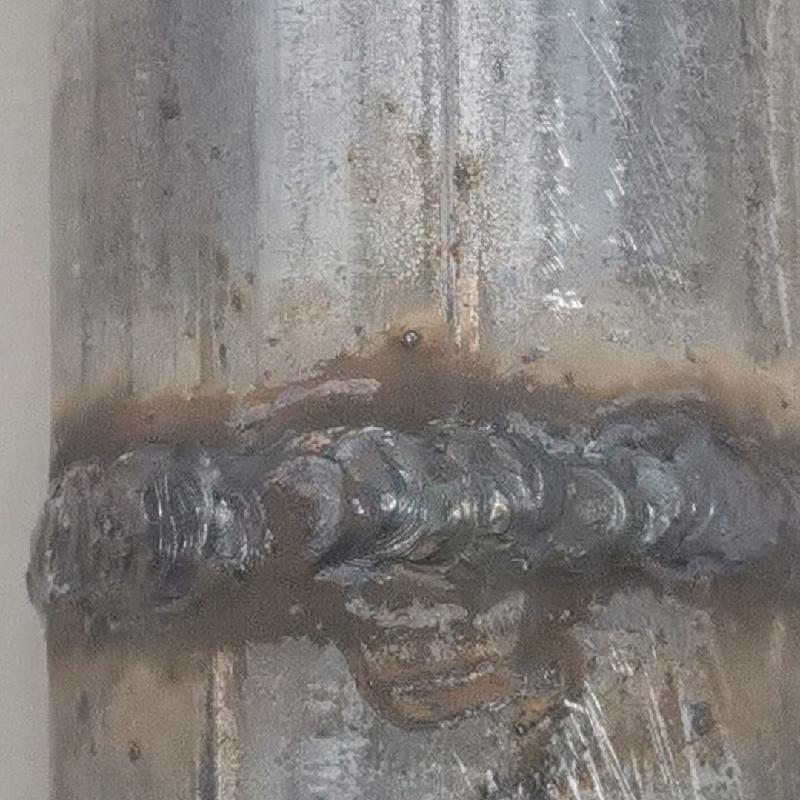good: (23, 413, 799, 632)
